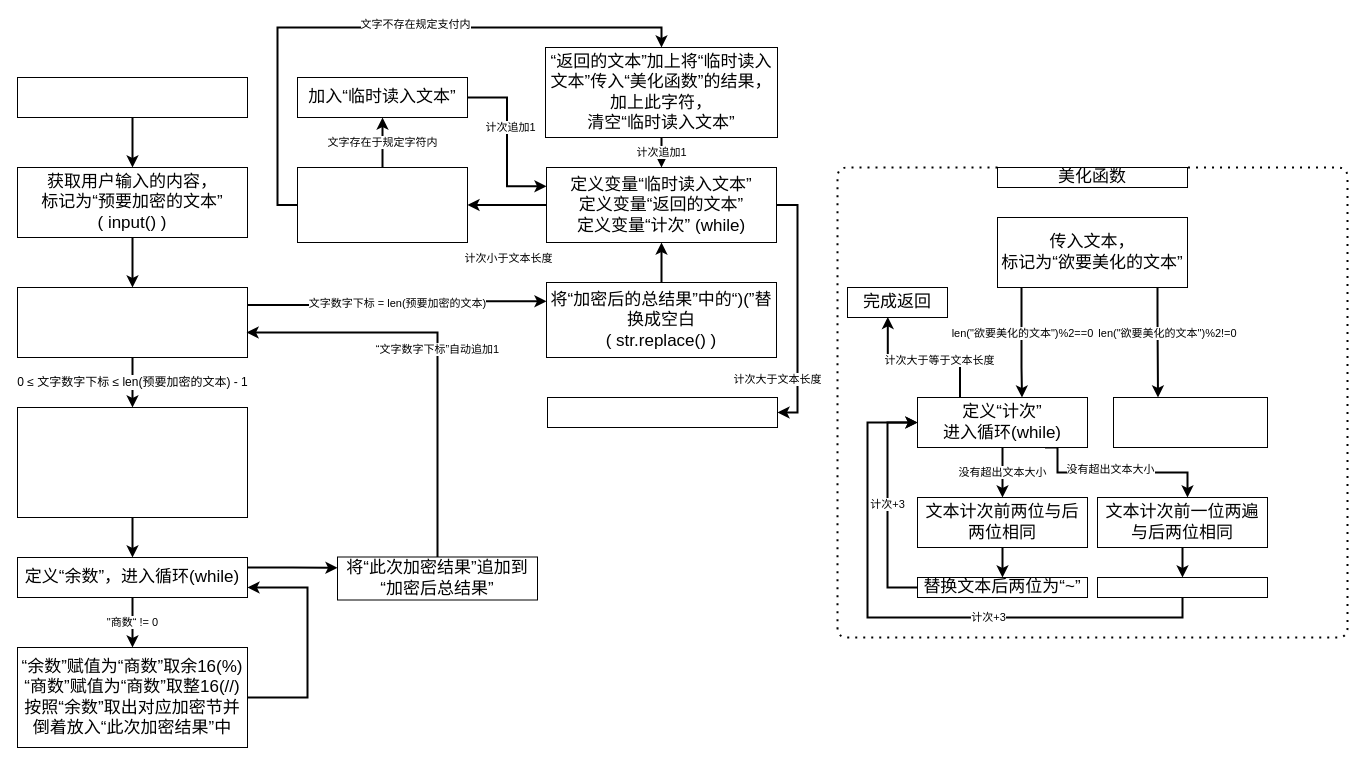
This 1367x765 diagram has some shape labels left out. Each missing label, with the centre of its shape:
"依据“文本数字下标” 取出“预要加密的文本”中对应的文字并取出字符Unicode编号，标记为“商数” 定义变量“此次加密结果”" goes at (132,462).
"依据“计次”取出 “加密后的总结果”对应的文字" goes at (382,204).
"出错返回" goes at (1190,422).
"定义变量“加密后的总结果” 定义变量“文本数字下标” 开始循环(for)" goes at (132,322).
"替换文本后两位为“-”" goes at (1182,587).
"输出 “返回的文本”" goes at (662,412).
"预制定义加密字典" goes at (132,97).
